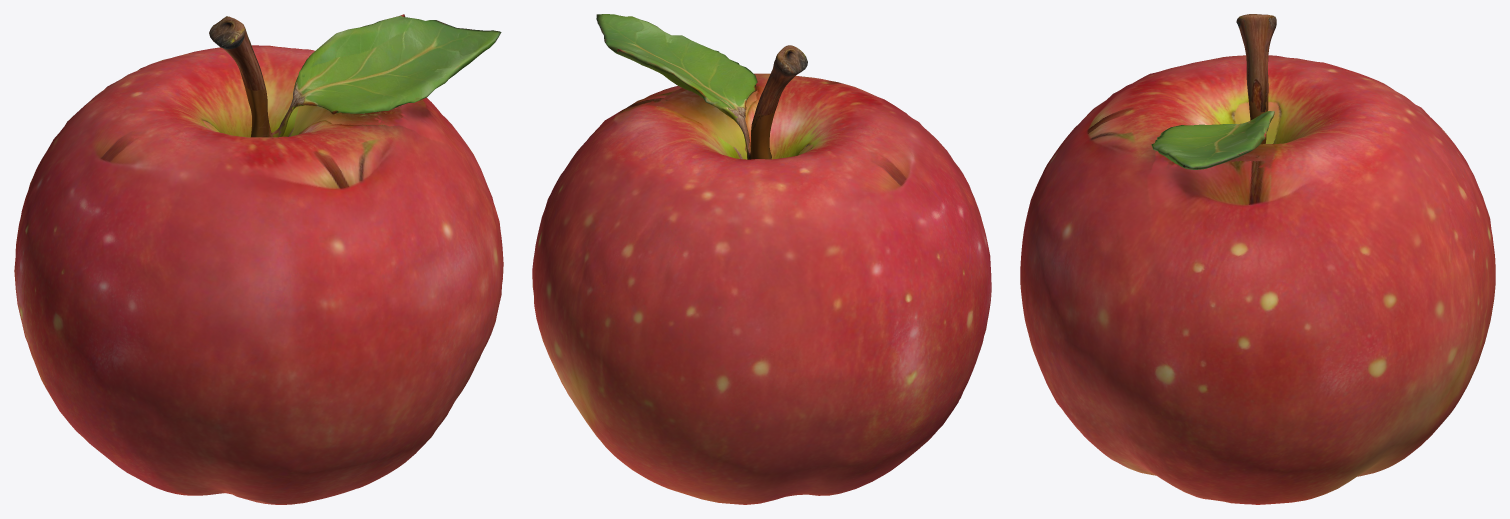
The model's file is kashmiri_apple_very_r_0629101439_texture.glb.
3 renders of one model, left to right at view 1: azimuth 30°, elevation 25°; view 2: azimuth 150°, elevation 25°; view 3: azimuth 270°, elevation 25°, orthographic. The views are drawn at different scales.
Bounding box in the file's own units: 2 × 1.99 × 1.99.
Materials: 1 (1 with a texture image).
